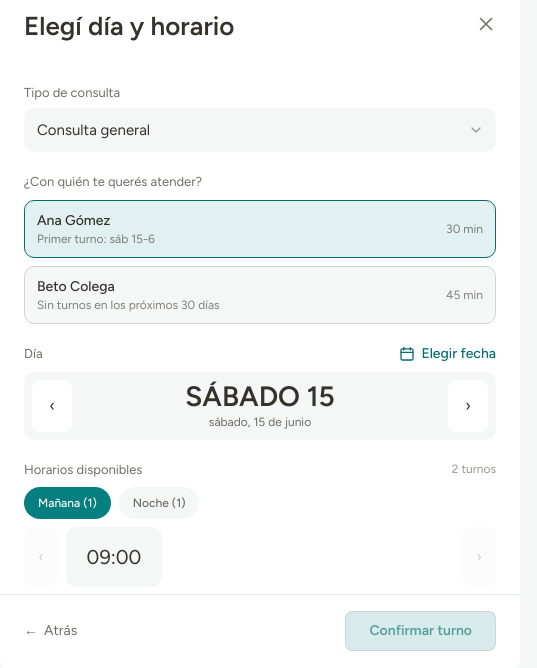
PantallaDiaHora — horarios agrupados por franja › tocar un chip cambia la tira a los horarios de esa franja
The width and height of the screenshot is (537, 668).
Expected: the button "09:00" is shown, [66,527,162,587]
Click the button "Noche (1)": (159,503) [119,487,199,519]
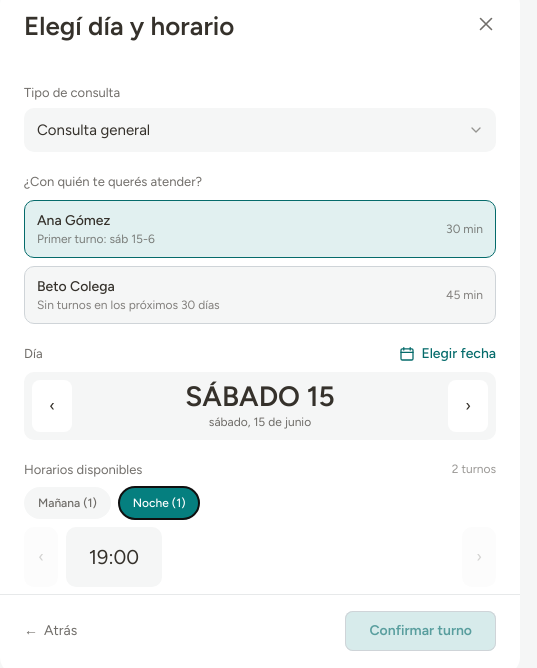
Now the button "09:00" is gone
Now the button "19:00" is shown, box [66,527,162,587]
